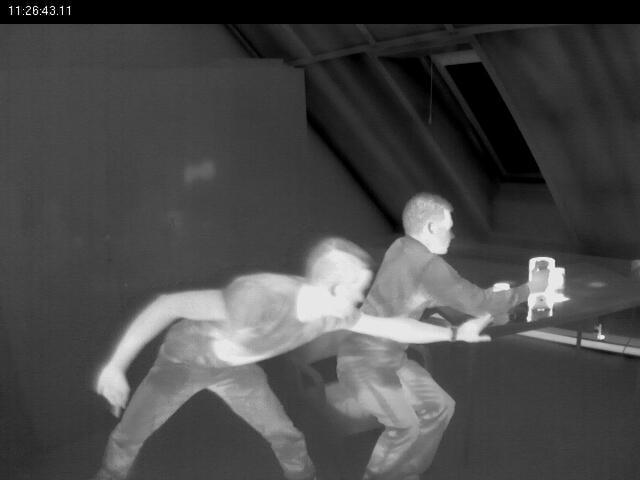person: (140, 221, 379, 480), (360, 187, 506, 480)
